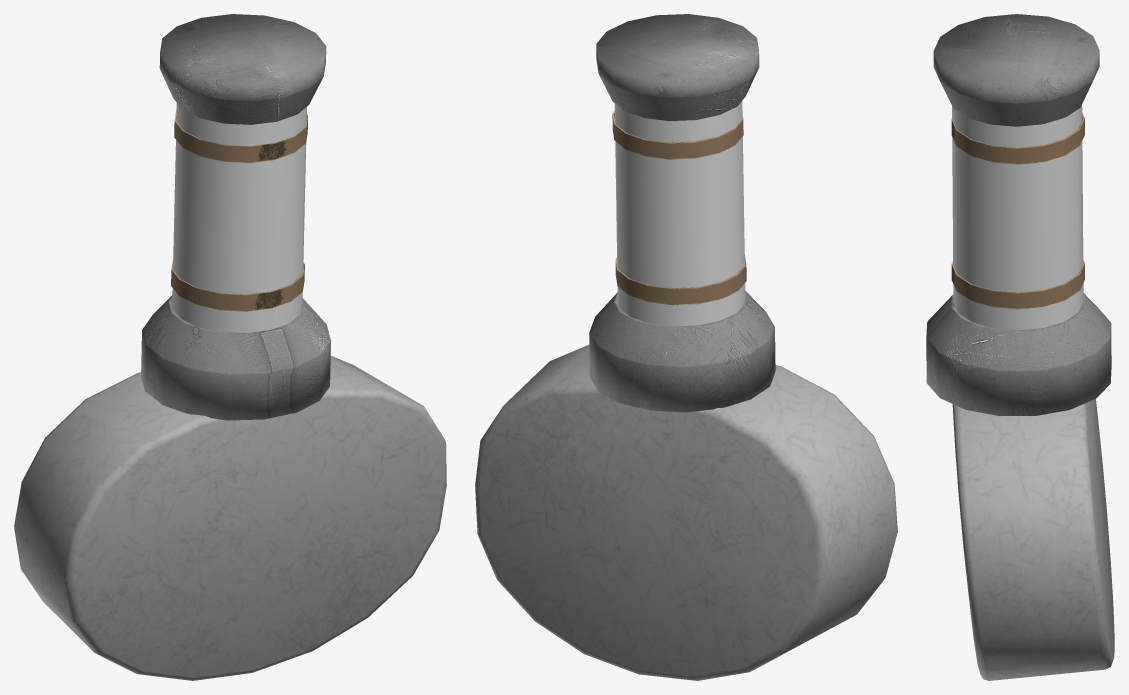
File: BrazaleteVidaV2.fbx
3 views of the same model, side by side, from view 1: azimuth 30°, elevation 25°; view 2: azimuth 150°, elevation 25°; view 3: azimuth 270°, elevation 25° (orthographic). The views are drawn at different scales.
Visible parts, largest first — view 1: BrazaleteVidaBase.003, Contenedor, Cristal; view 2: BrazaleteVidaBase.003, Contenedor, Cristal; view 3: BrazaleteVidaBase.003, Contenedor, Cristal.
Part boxes in pixels (bbox=[...]): BrazaleteVidaBase.003: bbox=[14, 356, 446, 680]; Contenedor: bbox=[141, 14, 330, 420]; Cristal: bbox=[172, 103, 306, 332]; BrazaleteVidaBase.003: bbox=[475, 344, 897, 680]; Contenedor: bbox=[589, 14, 775, 412]; Cristal: bbox=[614, 101, 745, 326]; BrazaleteVidaBase.003: bbox=[952, 399, 1114, 680]; Contenedor: bbox=[926, 14, 1111, 415]; Cristal: bbox=[952, 105, 1083, 330].
Size of the model in its own units: 6.12 by 9.35 by 2.63.
